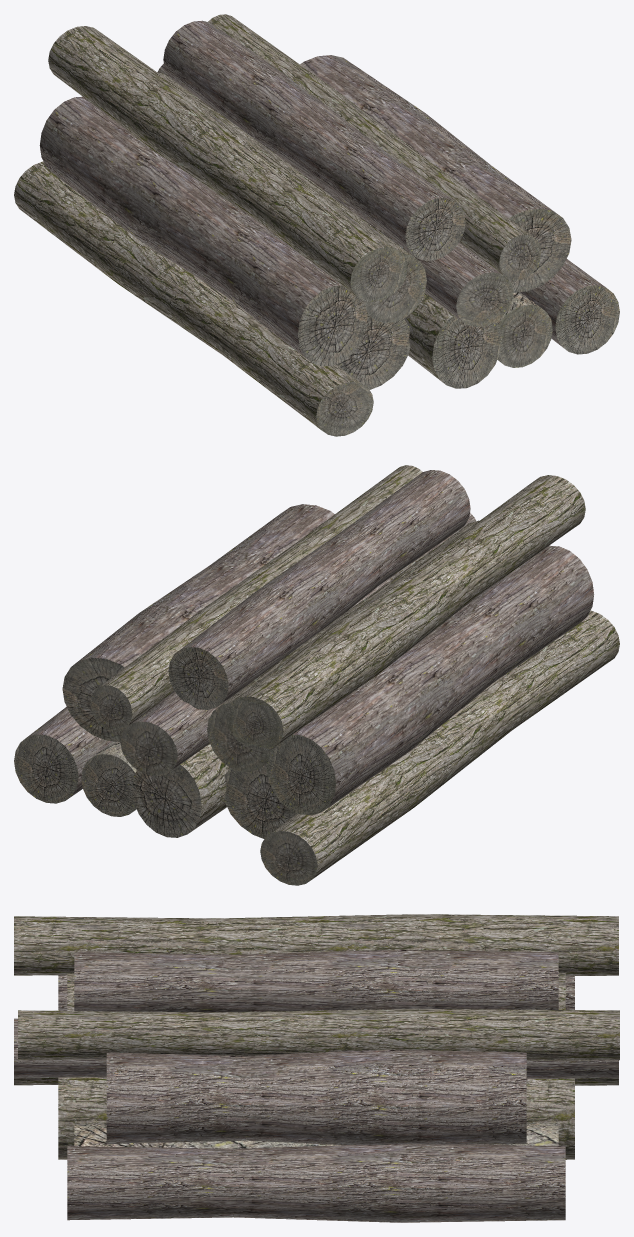
File: Wood stack.fbx
3 renders of one model, top to bottom at view 1: azimuth 30°, elevation 25°; view 2: azimuth 150°, elevation 25°; view 3: azimuth 270°, elevation 25°, orthographic.
Parts seen in each view (by area): view 1: polySurface16; view 2: polySurface16; view 3: polySurface16.
Part boxes in pixels (x1,y1,x2,y2): polySurface16: (14,14,619,436); polySurface16: (14,465,619,885); polySurface16: (14,914,619,1222).
Size of the model in its own units: 3.11 by 1.74 by 4.87.
3 materials, 3 textured.
